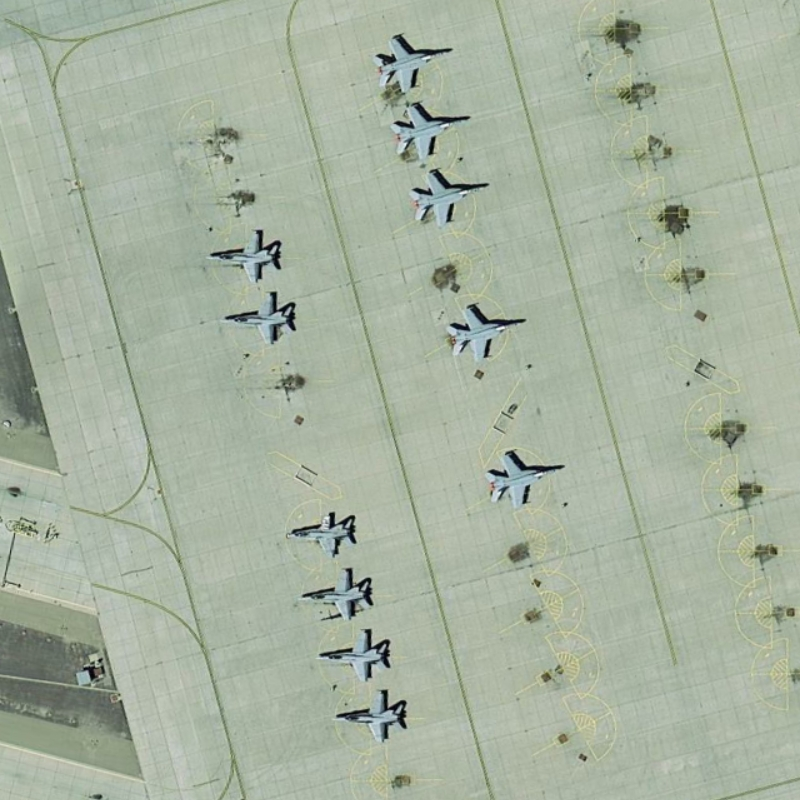A16: (405, 164, 493, 232), (480, 448, 568, 514), (201, 224, 286, 289), (442, 303, 529, 365), (370, 32, 455, 95), (386, 100, 474, 160), (292, 565, 377, 626), (311, 626, 394, 688), (327, 687, 411, 747), (218, 288, 300, 346), (281, 506, 361, 561)
